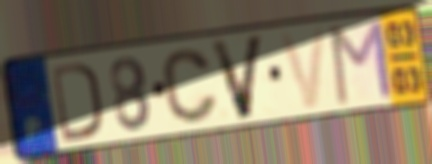8: (108, 54, 152, 132)
C: (159, 46, 221, 126)
D: (49, 59, 104, 145)
M: (328, 16, 395, 109)
V: (207, 32, 268, 123), (276, 24, 329, 113)
